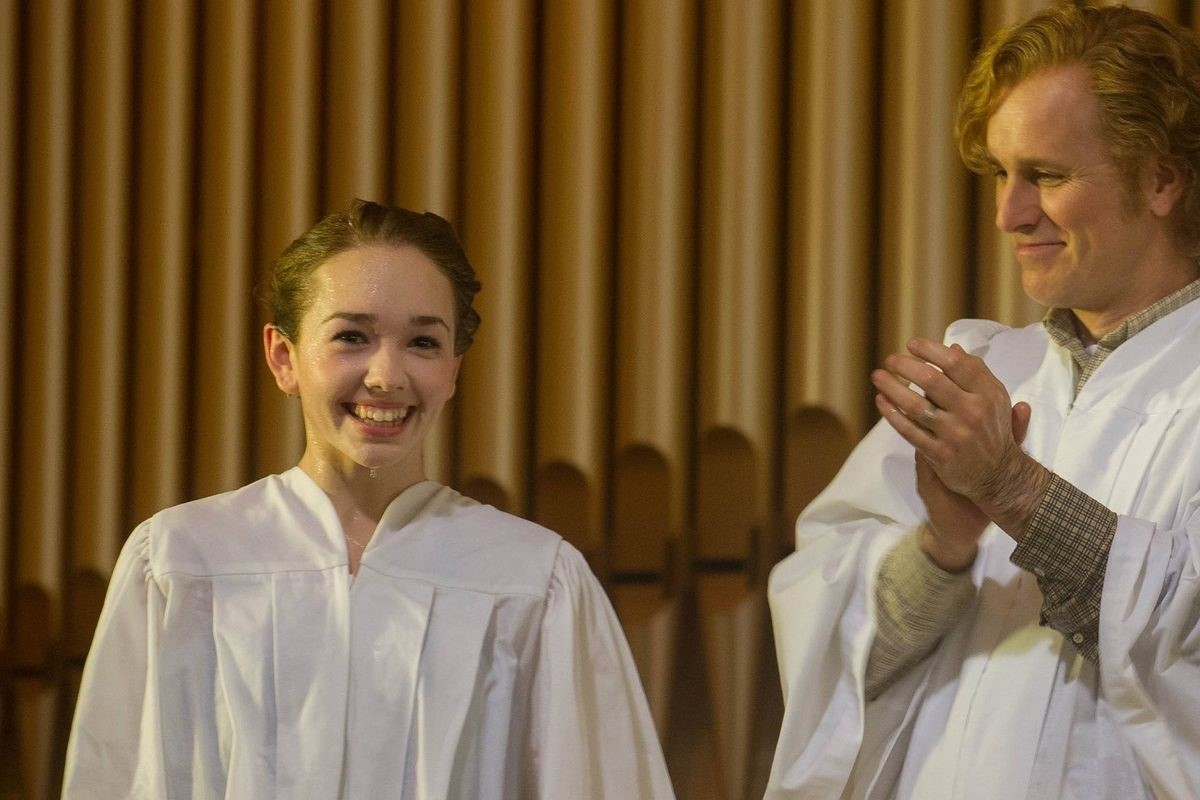face_no_mask: (961, 6, 1191, 303), (264, 201, 475, 462)
